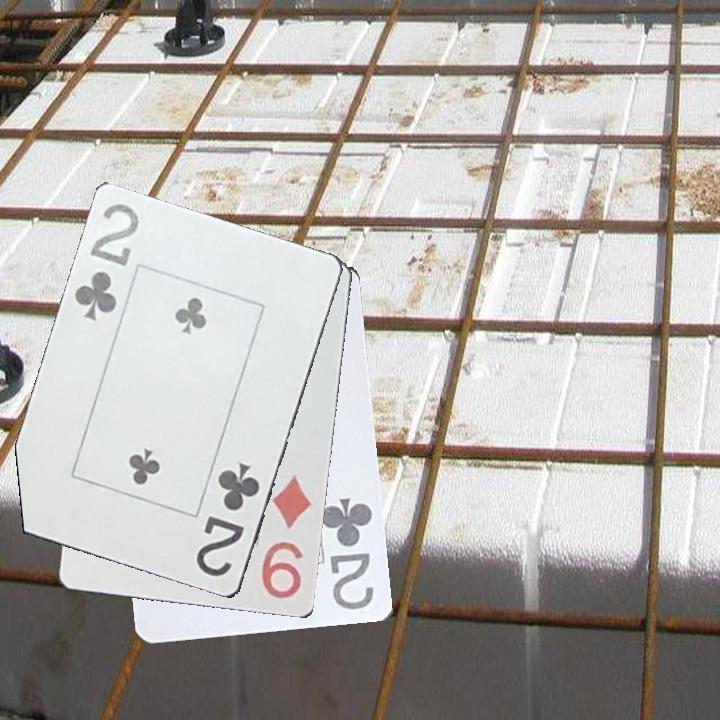2c: (71, 200, 143, 325), (192, 459, 263, 580), (320, 494, 378, 614)
9d: (258, 471, 317, 602)
